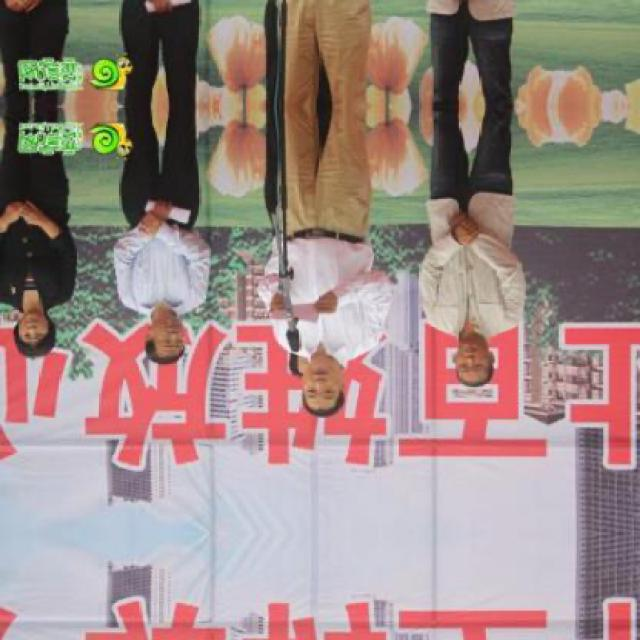sin casco: (260, 318, 361, 412), (431, 324, 543, 402), (125, 290, 212, 375), (0, 277, 78, 358)
